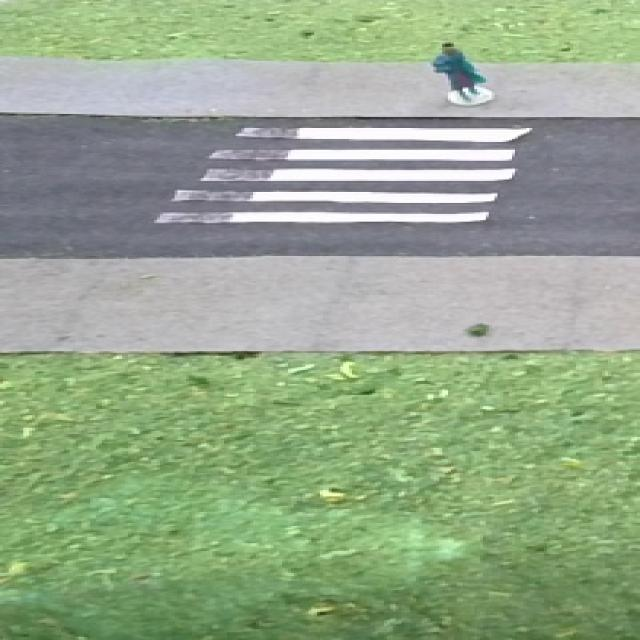person: (424, 41, 498, 109)
